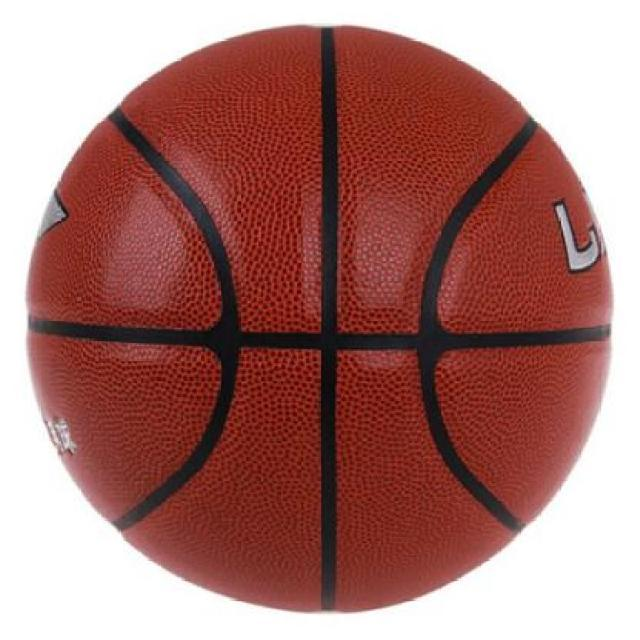basketball: (27, 22, 618, 614)
